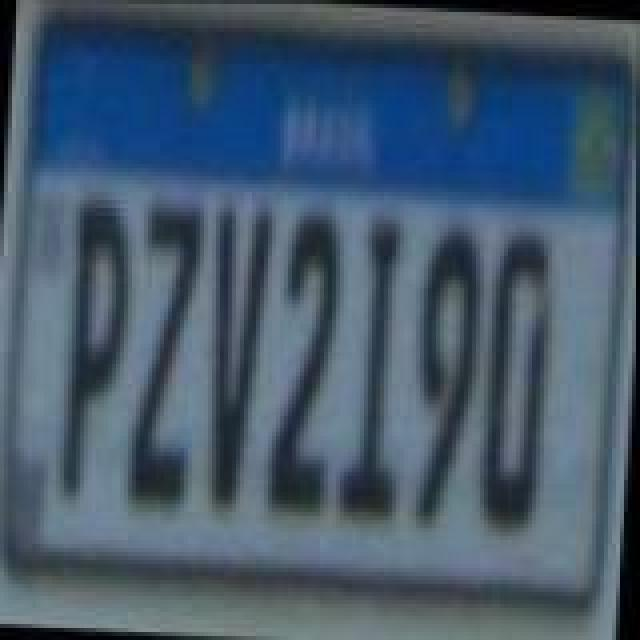2: (264, 206, 352, 518)
9: (402, 224, 486, 532)
D: (478, 220, 562, 540)
I: (336, 212, 416, 528)
P: (52, 192, 140, 496)
V: (196, 198, 276, 518)
Z: (120, 194, 208, 518)
